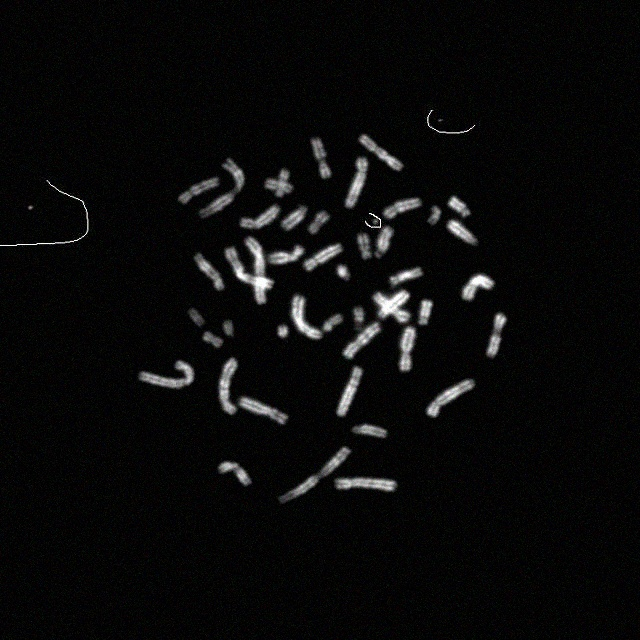chromosome: (278, 448, 349, 502), (200, 158, 244, 218), (225, 248, 272, 288), (358, 134, 402, 172), (428, 380, 474, 416), (139, 360, 193, 388), (344, 323, 381, 359), (291, 295, 321, 339), (237, 398, 287, 424), (246, 236, 264, 306), (193, 253, 225, 290), (338, 367, 362, 415), (345, 158, 367, 208), (372, 293, 410, 321), (178, 178, 218, 204), (218, 360, 237, 414), (304, 243, 342, 269), (336, 477, 396, 493), (446, 220, 478, 248), (218, 462, 252, 488), (241, 206, 279, 228), (462, 275, 493, 301), (310, 138, 330, 178), (379, 291, 409, 317), (488, 314, 506, 356), (384, 198, 421, 218), (282, 204, 306, 230), (391, 266, 422, 286), (400, 327, 414, 371), (271, 246, 304, 264), (375, 226, 393, 258), (352, 424, 388, 438), (449, 196, 471, 218), (309, 210, 329, 233), (265, 179, 293, 193), (419, 299, 433, 325), (323, 314, 343, 332), (187, 308, 205, 328), (276, 169, 288, 197), (358, 234, 372, 258), (202, 331, 223, 347), (428, 206, 442, 224), (354, 306, 366, 324), (339, 266, 351, 282), (224, 321, 234, 337), (277, 326, 289, 338)
